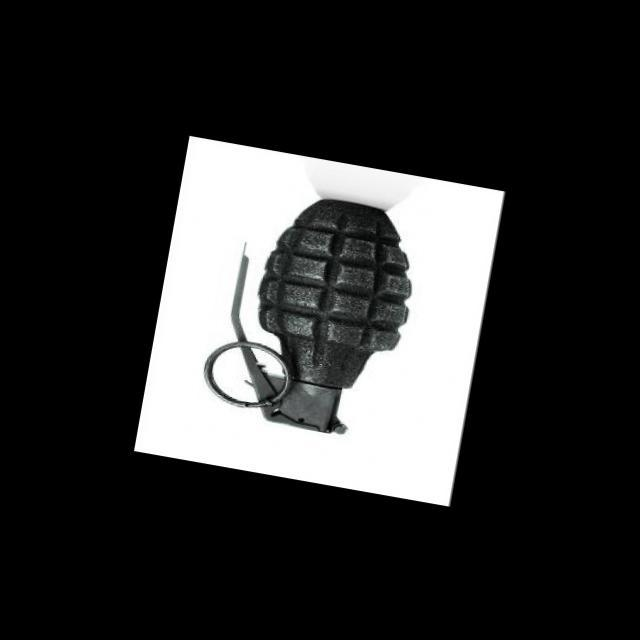grenade: (192, 174, 444, 453)
